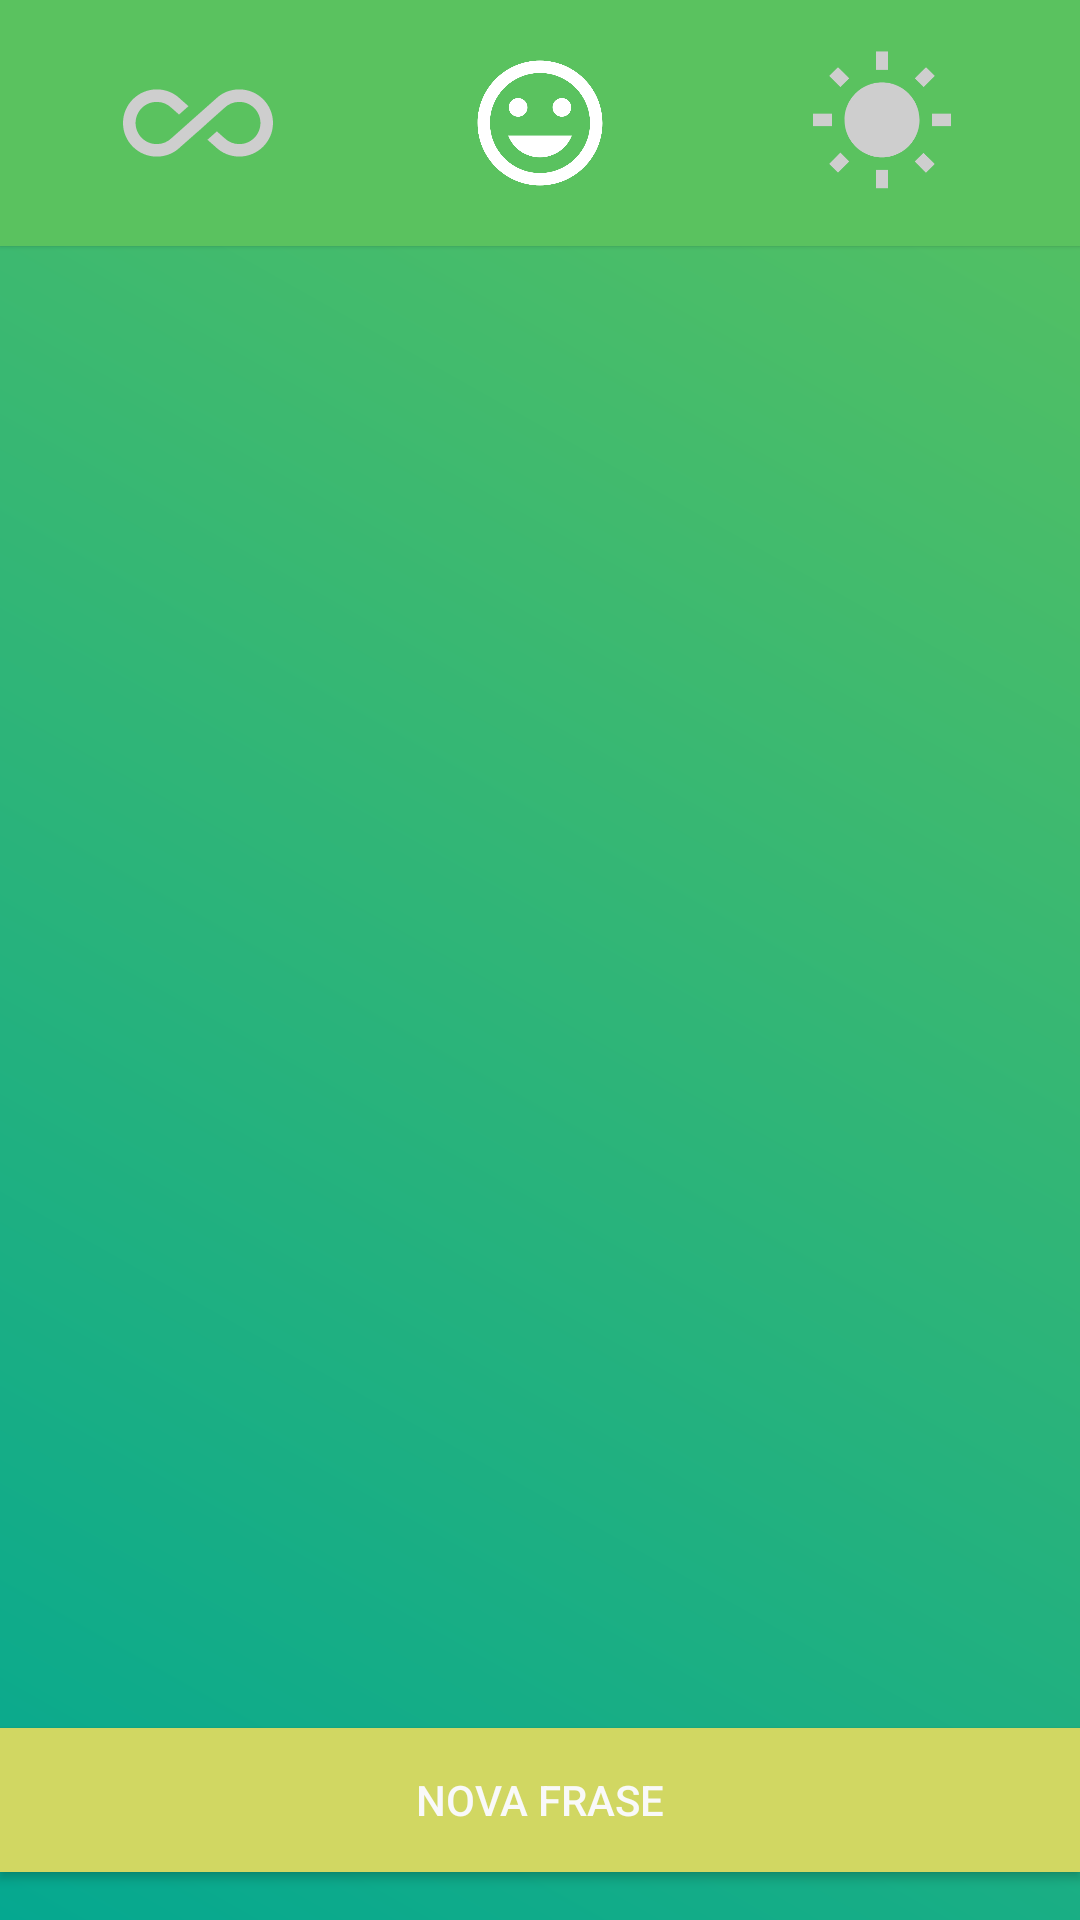

Icons on this 1080 x 1920 Android screen, each with its box as region(x1, y1, x2, y2):
all: region(123, 89, 273, 157)
happy: region(477, 60, 603, 186)
sun: region(813, 51, 951, 189)
